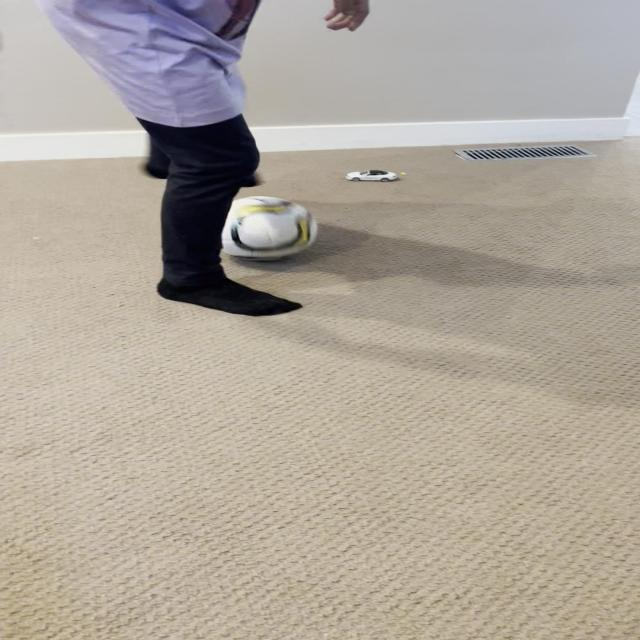Soccer Ball: (205, 196, 318, 259)
